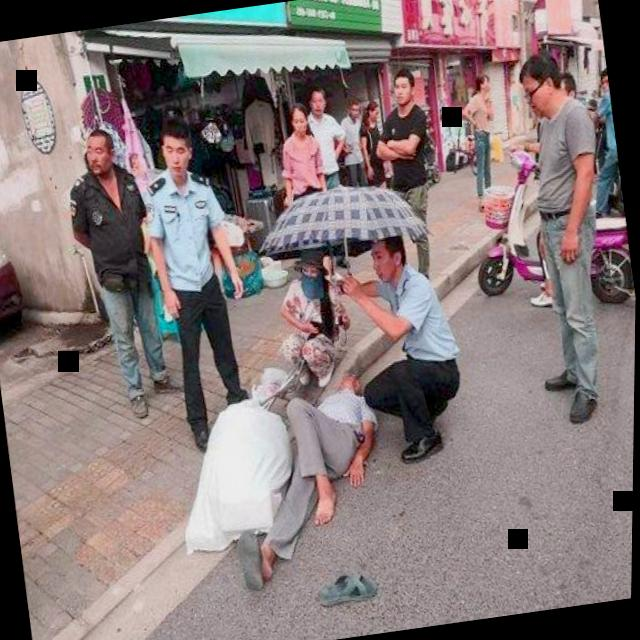Fall-Detected: (217, 360, 411, 596)
